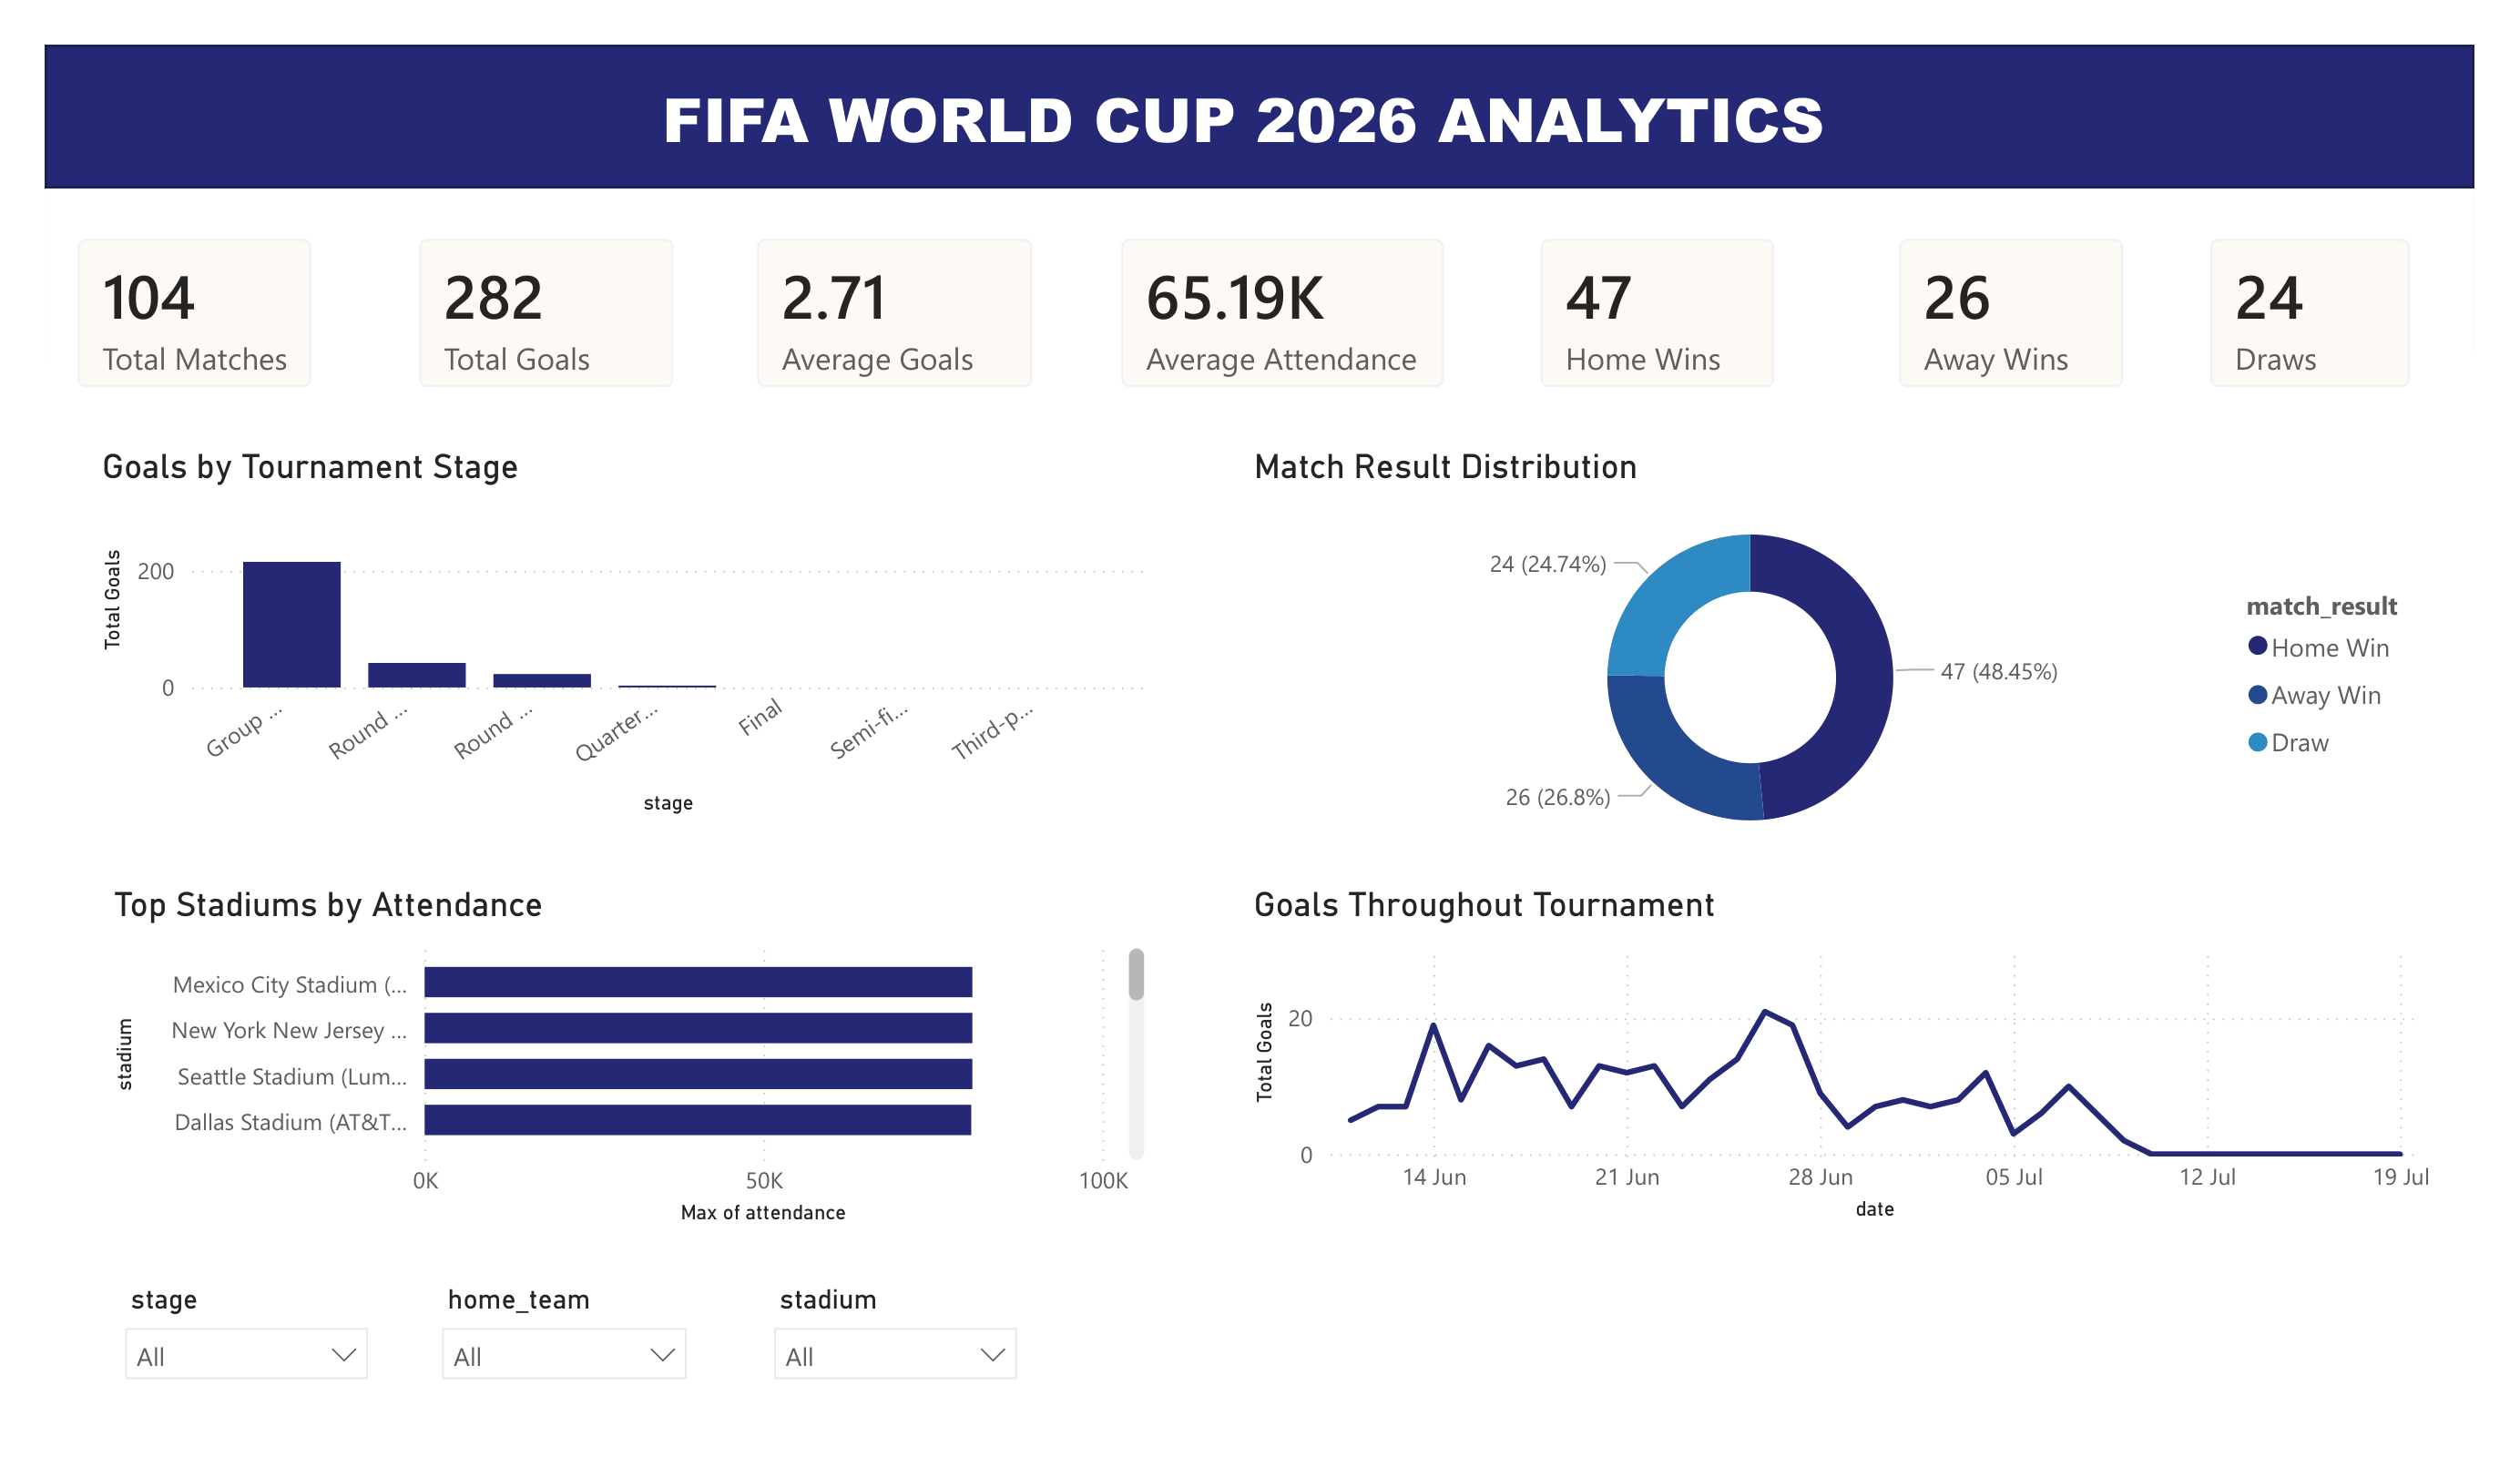

The dashboard page shown, as its layout file describes it:
{"tool":"powerbi","page":{"name":"Tournament Overview","canvas":[1280,720],"ordinal":0},"visuals":[{"type":"shape","box":[0,0,1280,75.4],"z":0},{"type":"textbox","box":[320,11.4,640,64],"z":1000},{"type":"cardVisual","fields":{"Data":["matches.Total Matches"]},"box":[0,85.1,157,111.5],"z":2000},{"type":"cardVisual","fields":{"Data":["matches.Total Goals"]},"box":[179.8,85.1,167.8,111.5],"z":3000},{"type":"cardVisual","fields":{"Data":["matches.Average Goals"]},"box":[358.4,85.1,178.6,111.5],"z":4000},{"type":"cardVisual","fields":{"Data":["matches.Average Attendance"]},"box":[550.1,85.1,203.7,111.5],"z":5000},{"type":"cardVisual","fields":{"Data":["matches.Home Wins"]},"box":[770.6,85.1,157,111.5],"z":6000},{"type":"cardVisual","fields":{"Data":["matches.Away Wins"]},"box":[960,85.1,152.2,111.5],"z":7000},{"type":"cardVisual","fields":{"Data":["matches.Draws"]},"box":[1124.2,85.1,139,111.5],"z":8000},{"type":"clusteredColumnChart","title":"Goals by Tournament Stage","fields":{"Category":["matches.stage"],"Y":["matches.Total Goals"]},"box":[25.2,210.9,558.5,199],"z":9000},{"type":"donutChart","title":"Match Result Distribution","fields":{"Category":["matches.match_result"],"Y":["CountNonNull(matches.match_id)"]},"box":[631.6,210.9,630.4,222.9],"z":10000},{"type":"barChart","title":"Top Stadiums by Attendance","fields":{"Category":["matches.stadium"],"Y":["Max(matches.attendance)"]},"box":[31.2,442.2,552.5,183.4],"z":11000},{"type":"lineChart","title":"Goals Throughout Tournament","fields":{"Y":["matches.Total Goals"],"Category":["matches.date"]},"box":[631.6,442.2,630.4,182.2],"z":12000},{"type":"slicer","fields":{"Values":["matches.stage"]},"box":[31.7,647.8,148.6,57.7],"z":13000},{"type":"slicer","fields":{"Values":["matches.home_team"]},"box":[199.1,647.8,148.6,57.7],"z":14000},{"type":"slicer","fields":{"Values":["matches.stadium"]},"box":[373.7,647.8,148.6,57.7],"z":15000}]}

Visuals, with their boxes on the page's 1280x720 design canvas (x1, y1, x2, y2). These are canvas units, not pixel positions in the 2520x1457 screenshot, which may show the page scaled, cropped or inside an application window:
shape: bbox(0, 0, 1280, 75)
textbox: bbox(320, 11, 960, 75)
cardVisual - matches.Total Matches: bbox(0, 85, 157, 197)
cardVisual - matches.Total Goals: bbox(180, 85, 348, 197)
cardVisual - matches.Average Goals: bbox(358, 85, 537, 197)
cardVisual - matches.Average Attendance: bbox(550, 85, 754, 197)
cardVisual - matches.Home Wins: bbox(771, 85, 928, 197)
cardVisual - matches.Away Wins: bbox(960, 85, 1112, 197)
cardVisual - matches.Draws: bbox(1124, 85, 1263, 197)
"Goals by Tournament Stage" clusteredColumnChart: bbox(25, 211, 584, 410)
"Match Result Distribution" donutChart: bbox(632, 211, 1262, 434)
"Top Stadiums by Attendance" barChart: bbox(31, 442, 584, 626)
"Goals Throughout Tournament" lineChart: bbox(632, 442, 1262, 624)
slicer - matches.stage: bbox(32, 648, 180, 706)
slicer - matches.home_team: bbox(199, 648, 348, 706)
slicer - matches.stadium: bbox(374, 648, 522, 706)
